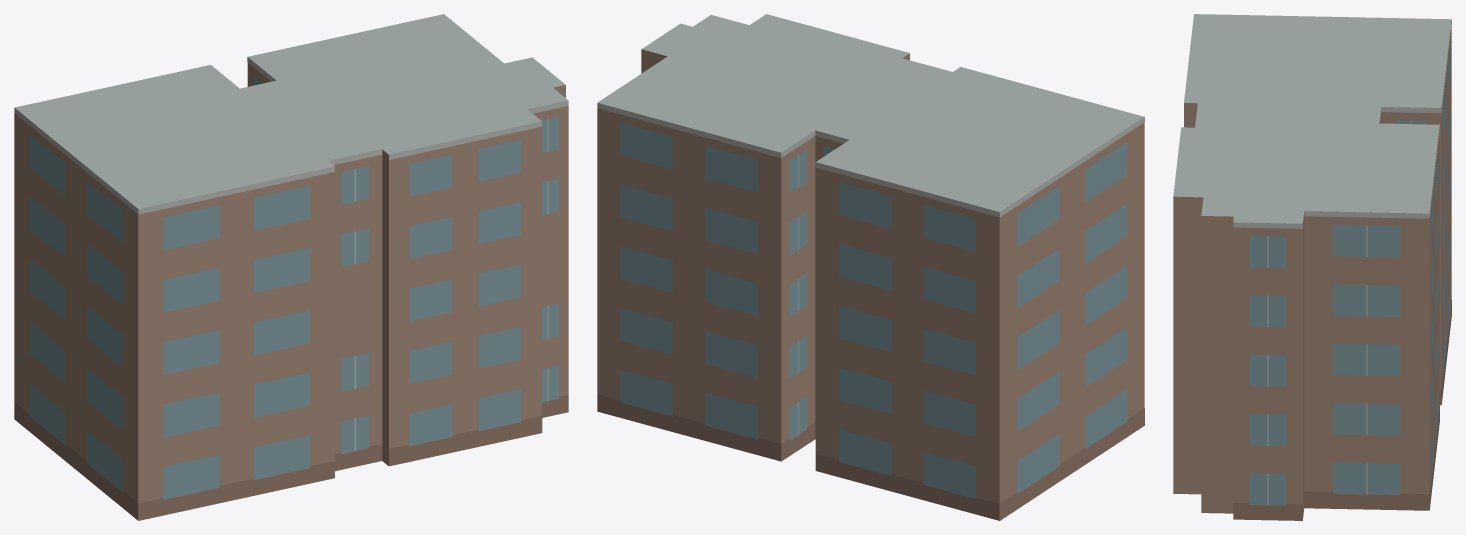
Rendered from survey-upis-32662673.glb.
The picture shows the model from 3 angles, left to right: view 1: azimuth 30°, elevation 25°; view 2: azimuth 150°, elevation 25°; view 3: azimuth 270°, elevation 25°; orthographic projection. The views are drawn at different scales.
Visible parts, largest first — view 1: survey-upis-32662673.tmp; view 2: survey-upis-32662673.tmp; view 3: survey-upis-32662673.tmp.
Boxes of the visible parts, box(x1,y1,x2,y2) form: survey-upis-32662673.tmp: box(14, 14, 568, 520); survey-upis-32662673.tmp: box(597, 14, 1144, 520); survey-upis-32662673.tmp: box(1173, 14, 1451, 520).
Size of the model in its own units: 21.28 by 14.05 by 11.94.
